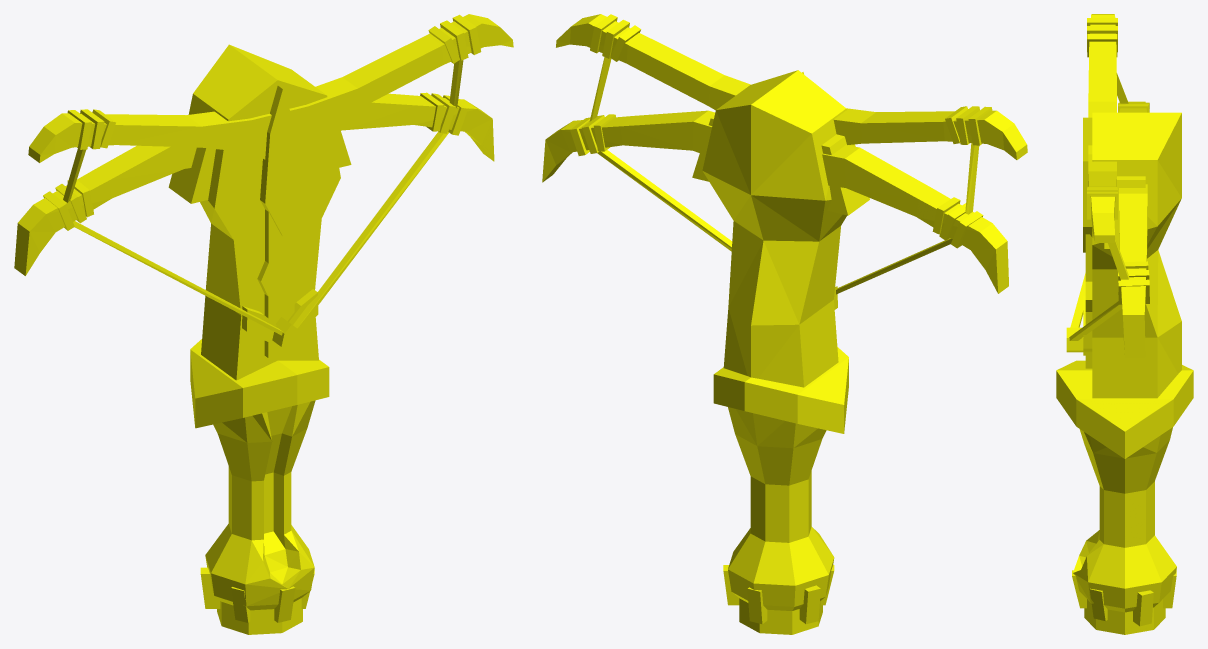
The model's file is _crossbow_23.glb.
3 views of the same model, side by side, from view 1: azimuth 30°, elevation 25°; view 2: azimuth 150°, elevation 25°; view 3: azimuth 270°, elevation 25° (orthographic). The views are drawn at different scales.
Visible parts, largest first — view 1: crossbow_23; view 2: crossbow_23; view 3: crossbow_23.
Boxes of the visible parts, bbox=[...] form: crossbow_23: bbox=[14, 14, 513, 634]; crossbow_23: bbox=[542, 14, 1027, 634]; crossbow_23: bbox=[1056, 14, 1193, 634].
Size of the model in its own units: 0.5693 by 0.6394 by 0.1556.
Materials: 1 (1 with a texture image).
